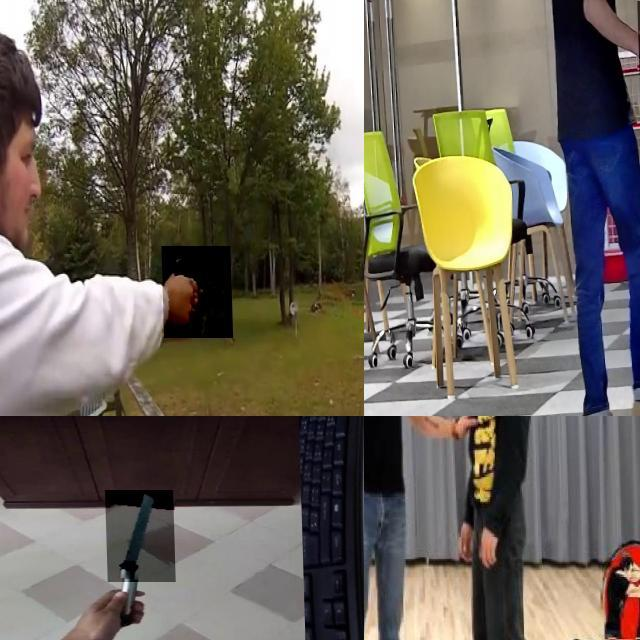-: (104, 490, 174, 582), (364, 416, 377, 459)
gun-knife-thesis - v11 Yolov5 augmented: (160, 246, 230, 338)
